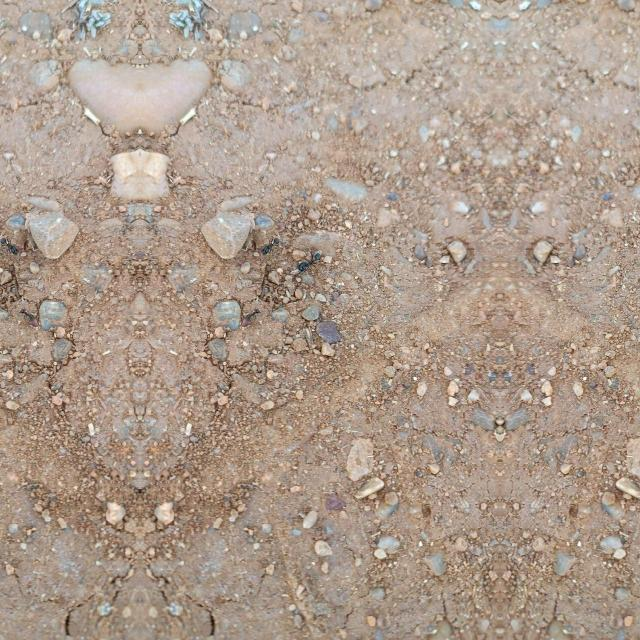Messor: (289, 248, 329, 274), (252, 235, 284, 255), (0, 235, 28, 255), (240, 304, 264, 322), (16, 304, 40, 322)
